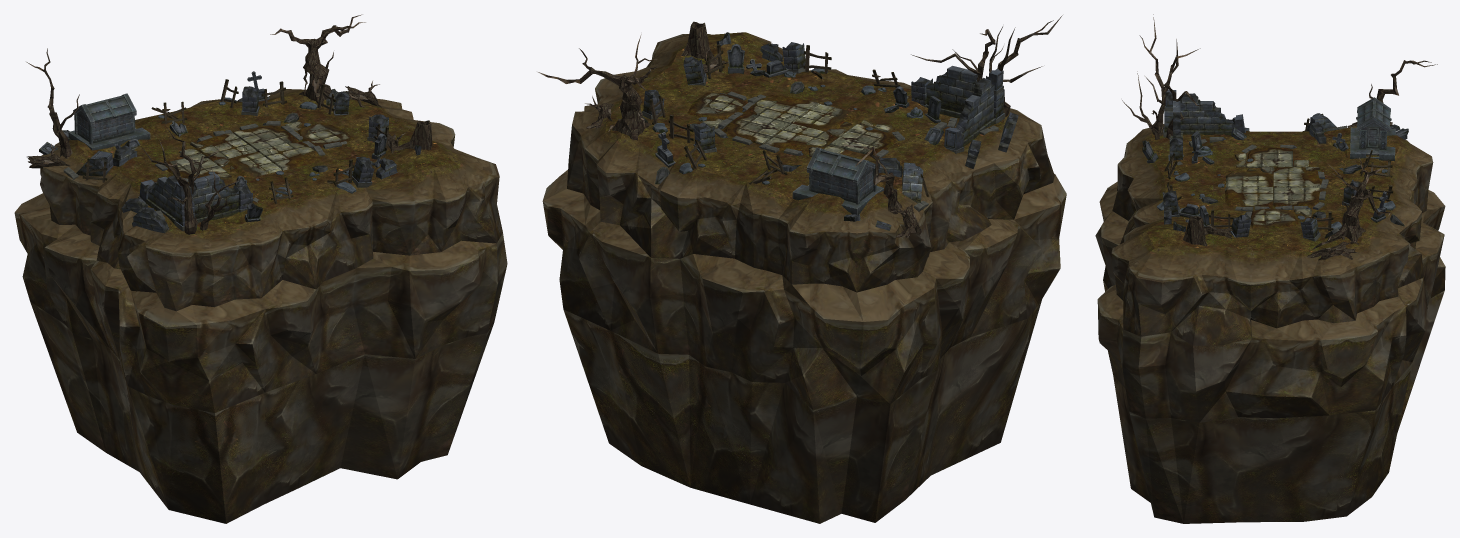
Rendered from cell4.fbx.
The picture shows the model from 3 angles, left to right: view 1: azimuth 30°, elevation 25°; view 2: azimuth 150°, elevation 25°; view 3: azimuth 270°, elevation 25°; orthographic projection. The views are drawn at different scales.
Visible parts, largest first — view 1: cell4; view 2: cell4; view 3: cell4.
Boxes of the visible parts, x1,y1,x2,y2 form: cell4: (14,14,507,523); cell4: (538,15,1066,523); cell4: (1095,14,1445,523).
Size of the model in its own units: 26.13 by 24.9 by 21.81.
